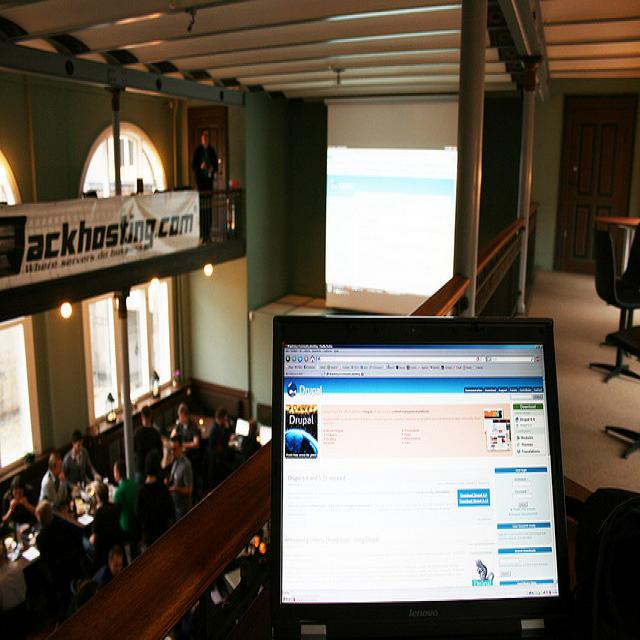chair: (590, 228, 640, 383), (604, 325, 640, 460), (81, 522, 127, 574), (620, 223, 640, 293)
dining table: (52, 477, 117, 530), (188, 408, 215, 441)
